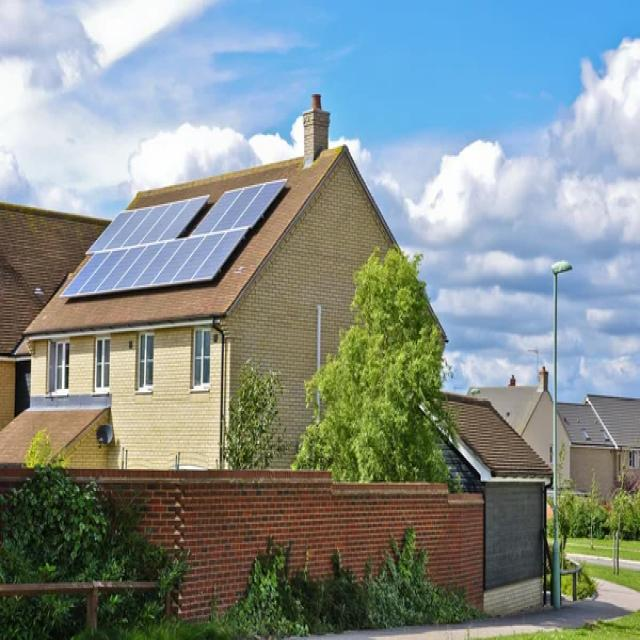clean-solar-panel: (62, 181, 286, 298)
